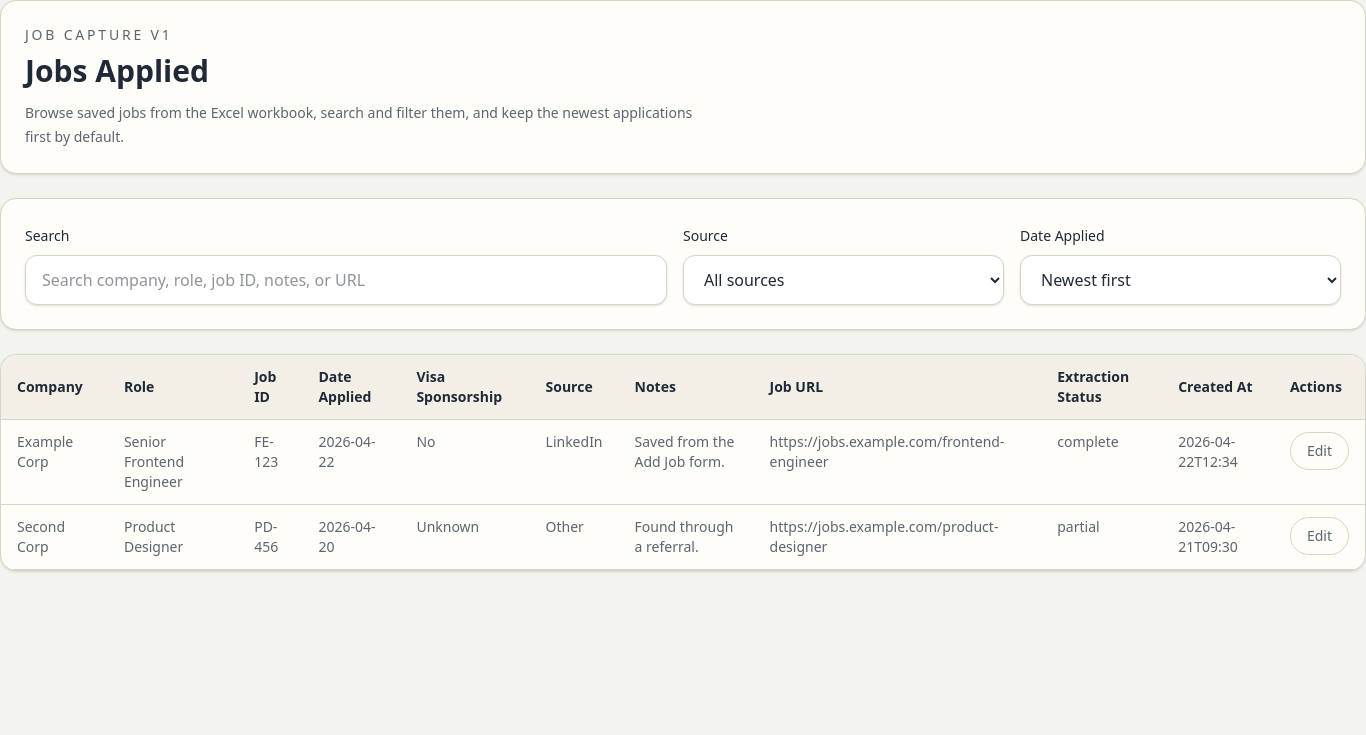
JobsPage › handles a malformed update response safely and keeps edit mode open
Expected: the text "Example Corp" is shown, x1=1 y1=420 x2=108 y2=504
What coordinates should you click on to do the following:
click the button "Edit" in the row of "Example Corp"
I would click on:
 (1319, 451)
Its box is x1=1290 y1=432 x2=1349 y2=470.
(page scrolled)
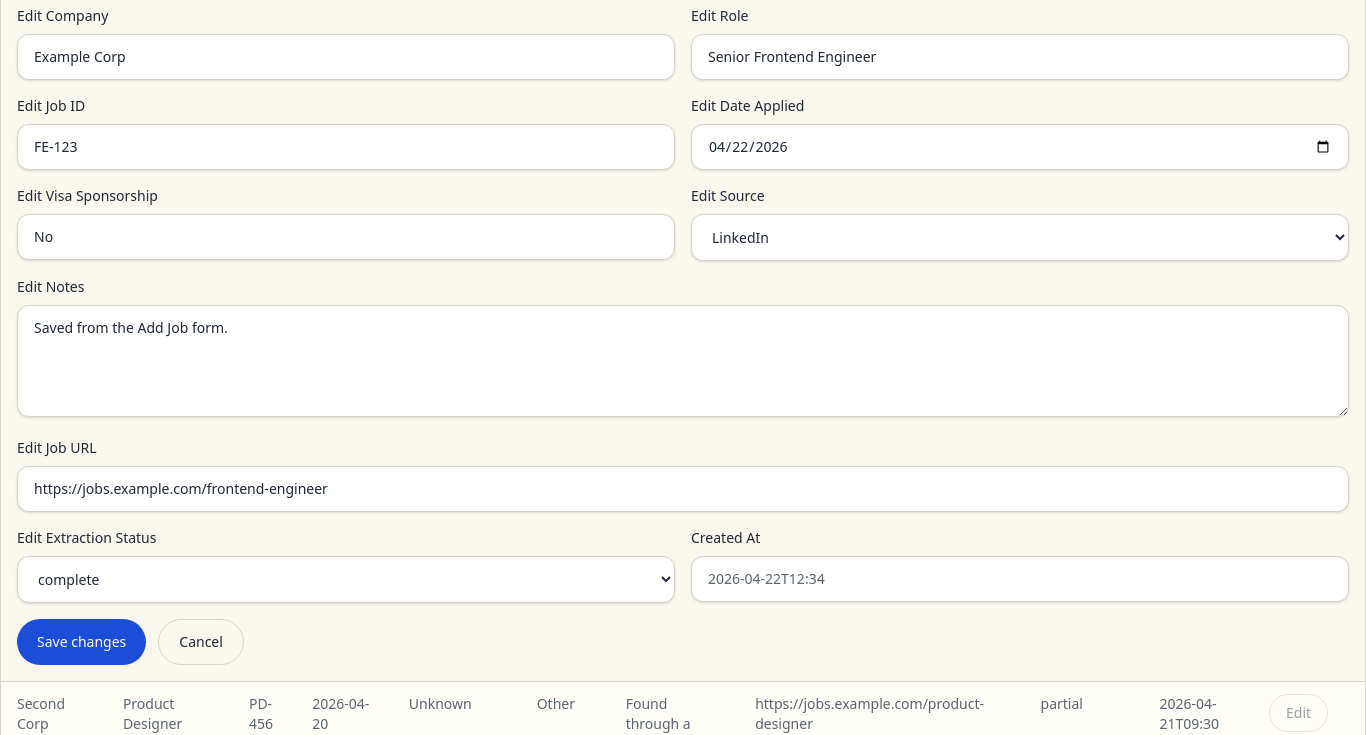
What coordinates should you click on to do the following:
click the button "Save changes"
I would click on:
 (82, 642)
Its box is x1=17 y1=619 x2=146 y2=665.
(page scrolled)
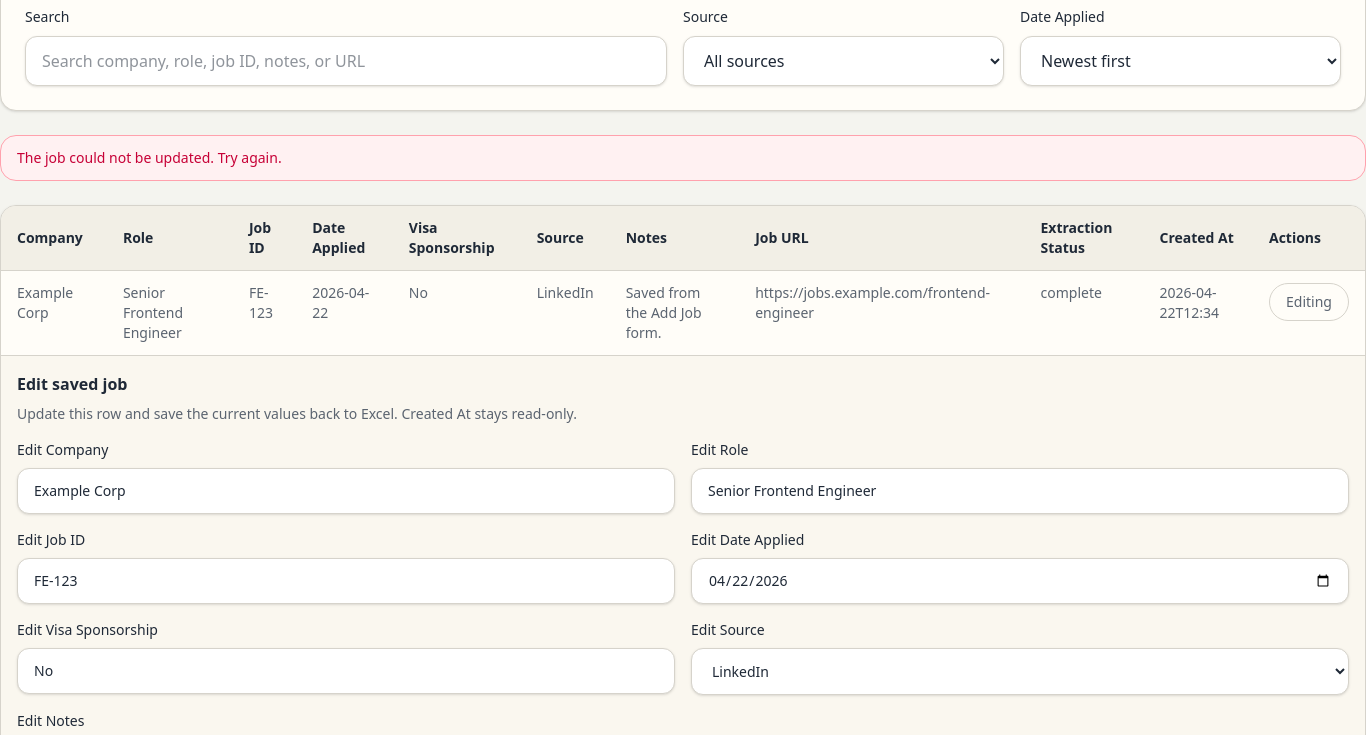
Expected: the heading "Edit saved job" is shown, x1=17 y1=373 x2=128 y2=395
Expected: the text "The job could not be updated. Try again." is shown, x1=0 y1=135 x2=1365 y2=181
